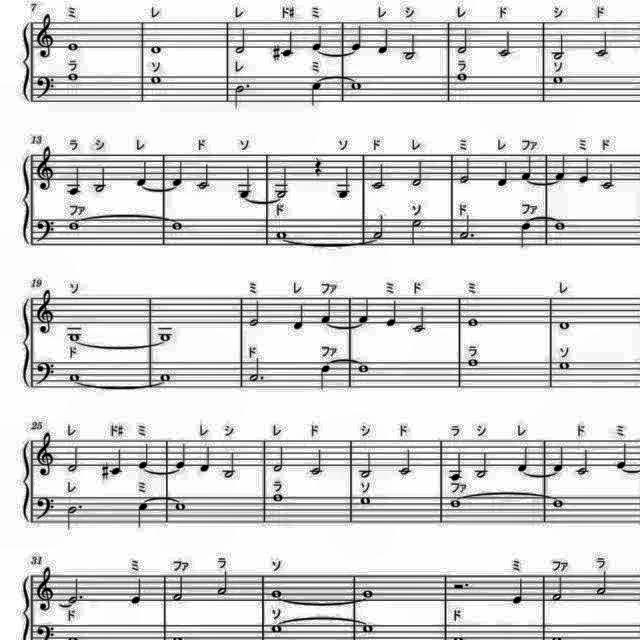Bass-clef: (34, 215, 58, 245), (34, 74, 58, 104), (34, 358, 58, 387), (34, 496, 56, 524)
Diez: (270, 41, 282, 64), (98, 460, 110, 480)
Full-note: (63, 327, 89, 345), (450, 72, 474, 86), (157, 328, 176, 344), (357, 622, 375, 638), (65, 216, 81, 234), (358, 587, 376, 601), (146, 42, 164, 56), (64, 39, 82, 53), (556, 317, 572, 331), (348, 78, 364, 92), (270, 622, 286, 636), (168, 218, 184, 232), (274, 228, 290, 242), (158, 371, 174, 385), (558, 358, 572, 372), (464, 316, 480, 328), (269, 588, 285, 600), (552, 220, 568, 232), (64, 72, 80, 84), (270, 492, 286, 504), (448, 498, 464, 510), (172, 500, 188, 512), (464, 356, 480, 368), (550, 496, 566, 508), (66, 372, 82, 384), (148, 73, 164, 85), (356, 361, 370, 374), (358, 494, 372, 506), (552, 73, 566, 85)
Half-dot: (230, 78, 254, 112), (65, 576, 87, 608), (64, 503, 85, 533), (246, 354, 266, 384), (460, 211, 478, 241)
Half-note: (273, 166, 291, 202), (598, 161, 618, 191), (591, 31, 611, 60), (398, 448, 416, 480), (403, 32, 421, 64), (454, 24, 472, 56), (550, 572, 568, 604), (246, 298, 264, 329), (307, 447, 325, 478), (496, 29, 514, 60), (233, 24, 250, 56), (411, 305, 429, 335), (575, 447, 593, 477), (408, 219, 426, 249), (473, 450, 491, 480), (357, 452, 375, 482), (220, 450, 236, 482), (271, 444, 287, 476), (369, 163, 386, 193), (551, 34, 569, 62), (66, 442, 82, 473), (198, 164, 215, 193), (90, 163, 106, 193), (457, 155, 473, 185), (171, 572, 187, 602), (213, 570, 230, 598), (372, 214, 388, 242), (592, 568, 608, 596), (410, 160, 426, 188)
Half-rest: (451, 580, 474, 594)
Quarter-note: (334, 164, 354, 200), (64, 163, 84, 197), (236, 164, 254, 198), (447, 450, 465, 482), (310, 22, 326, 54), (130, 574, 146, 606), (198, 443, 214, 475), (384, 298, 400, 330), (108, 446, 124, 478), (376, 24, 392, 56), (552, 442, 568, 473), (170, 158, 186, 188), (134, 158, 150, 188), (512, 577, 528, 607), (290, 302, 306, 332), (136, 441, 152, 471), (514, 442, 530, 472), (578, 157, 594, 187), (615, 442, 631, 472), (553, 153, 569, 183), (356, 296, 372, 326), (280, 29, 296, 59), (516, 218, 532, 248), (317, 363, 333, 393), (136, 501, 152, 531), (318, 296, 334, 324), (520, 152, 536, 180), (308, 78, 324, 106), (496, 160, 510, 190), (350, 22, 364, 52), (174, 441, 188, 471)
Quarter-rest: (312, 156, 326, 178)
Treble-clef: (32, 286, 56, 334), (33, 563, 56, 613), (33, 428, 56, 477), (33, 9, 56, 58), (33, 144, 56, 192)
